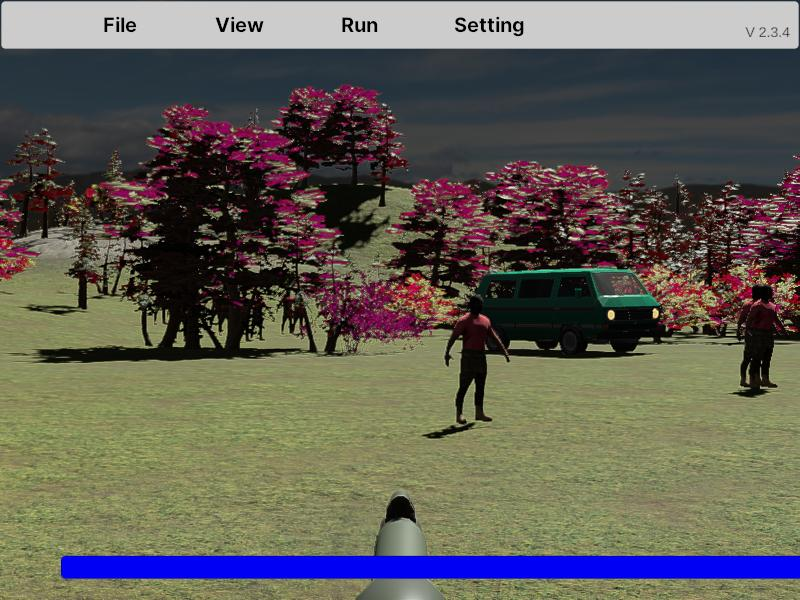Human: (444, 295, 509, 424), (745, 285, 783, 388)
car: (470, 267, 662, 356)
